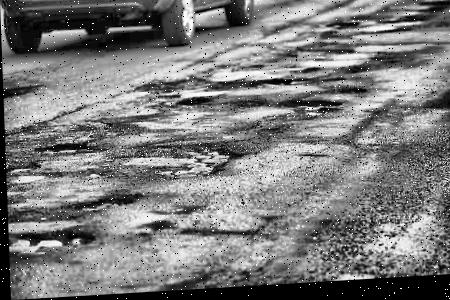pothole: (154, 146, 243, 185), (7, 222, 96, 256), (278, 100, 341, 125), (80, 195, 130, 217), (5, 161, 47, 186), (36, 140, 92, 157), (2, 82, 41, 100), (325, 23, 358, 36), (176, 97, 206, 110), (259, 80, 293, 90), (338, 89, 365, 100)
